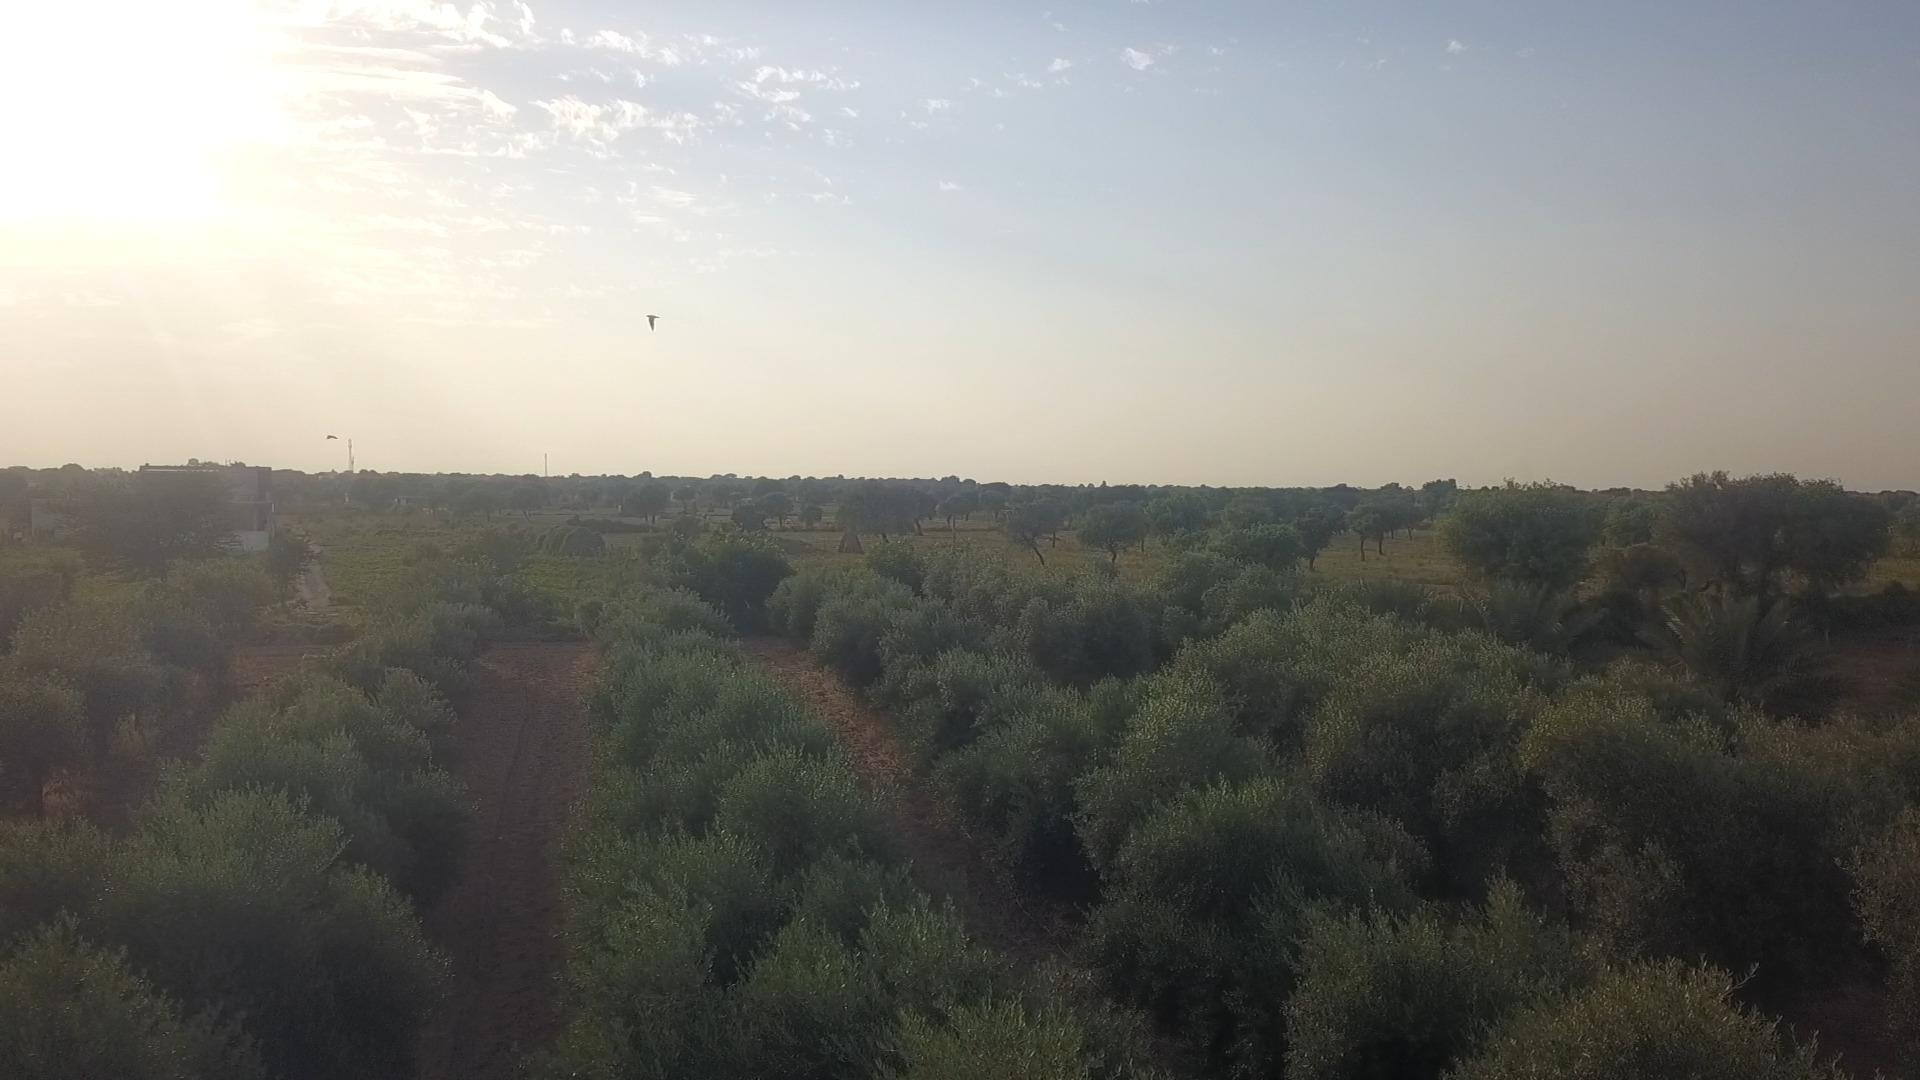canopy: (767, 570, 1817, 1079), (870, 545, 1919, 1007), (534, 589, 1164, 1079), (0, 603, 498, 1079), (0, 531, 313, 808)
road: (741, 637, 1075, 963), (418, 629, 601, 1079), (33, 632, 327, 831)
